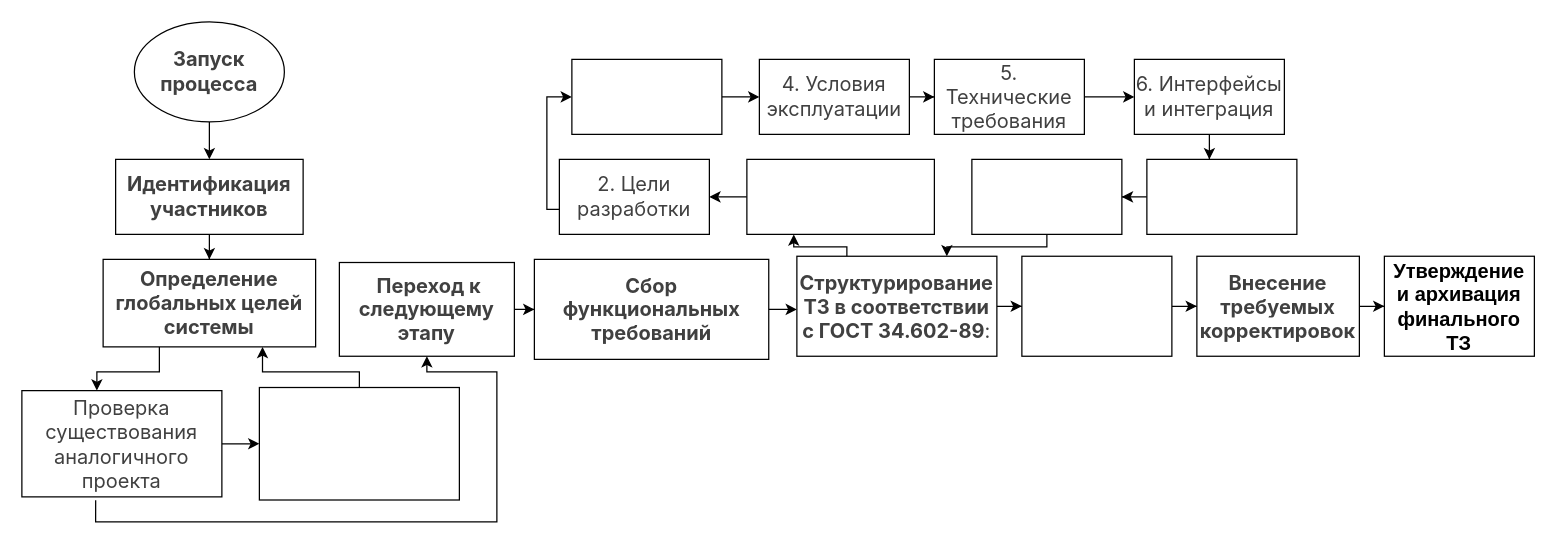
This 1556x554 diagram has some shape labels left out. Here are the shapes that lost their labels. From the top down, the centre of each, then its label:
At [646,96]: "3. Функции системы".
At [840,196]: "1. Назначение и область применения".
At [1046,196]: "8. Порядок контроля и приемки".
At [1221,196]: "7. Требования к документации".
At [1096,305]: "Согласование проекта ТЗ со всеми участниками".
At [358,443]: "Адаптация ТЗ с учетом существующего решения".
